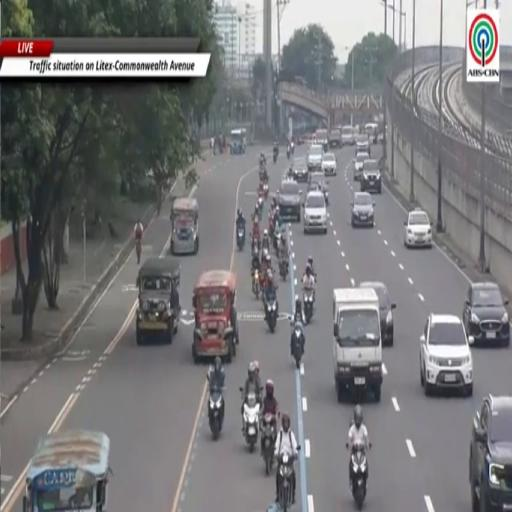car: (469, 395, 512, 512), (420, 314, 474, 395), (463, 282, 510, 346), (360, 282, 396, 346), (404, 207, 432, 248), (304, 190, 327, 233), (278, 180, 301, 221), (351, 192, 375, 227), (360, 159, 381, 194), (308, 172, 329, 204), (307, 144, 323, 171), (354, 153, 369, 181), (293, 156, 308, 182), (355, 134, 371, 156), (322, 153, 336, 175), (364, 123, 378, 144), (342, 125, 355, 146)
jeepney: (23, 430, 110, 511), (192, 270, 237, 363), (136, 256, 181, 345), (170, 198, 199, 254), (230, 128, 246, 154)
motorcycle: (351, 441, 367, 509), (277, 453, 294, 511), (244, 393, 260, 452), (261, 414, 276, 475), (209, 388, 224, 440), (291, 323, 305, 369), (265, 298, 278, 332), (303, 290, 314, 324), (252, 269, 260, 298), (271, 229, 280, 253), (279, 258, 288, 280), (237, 226, 245, 250), (252, 235, 260, 252), (136, 238, 141, 264), (258, 197, 264, 218), (263, 183, 269, 200), (273, 147, 278, 164), (287, 147, 291, 159), (291, 143, 294, 154)
truck: (333, 287, 383, 403), (316, 128, 328, 152), (329, 128, 341, 149)
